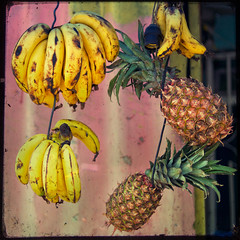Pineapple: (111, 25, 233, 146), (105, 136, 236, 233)
